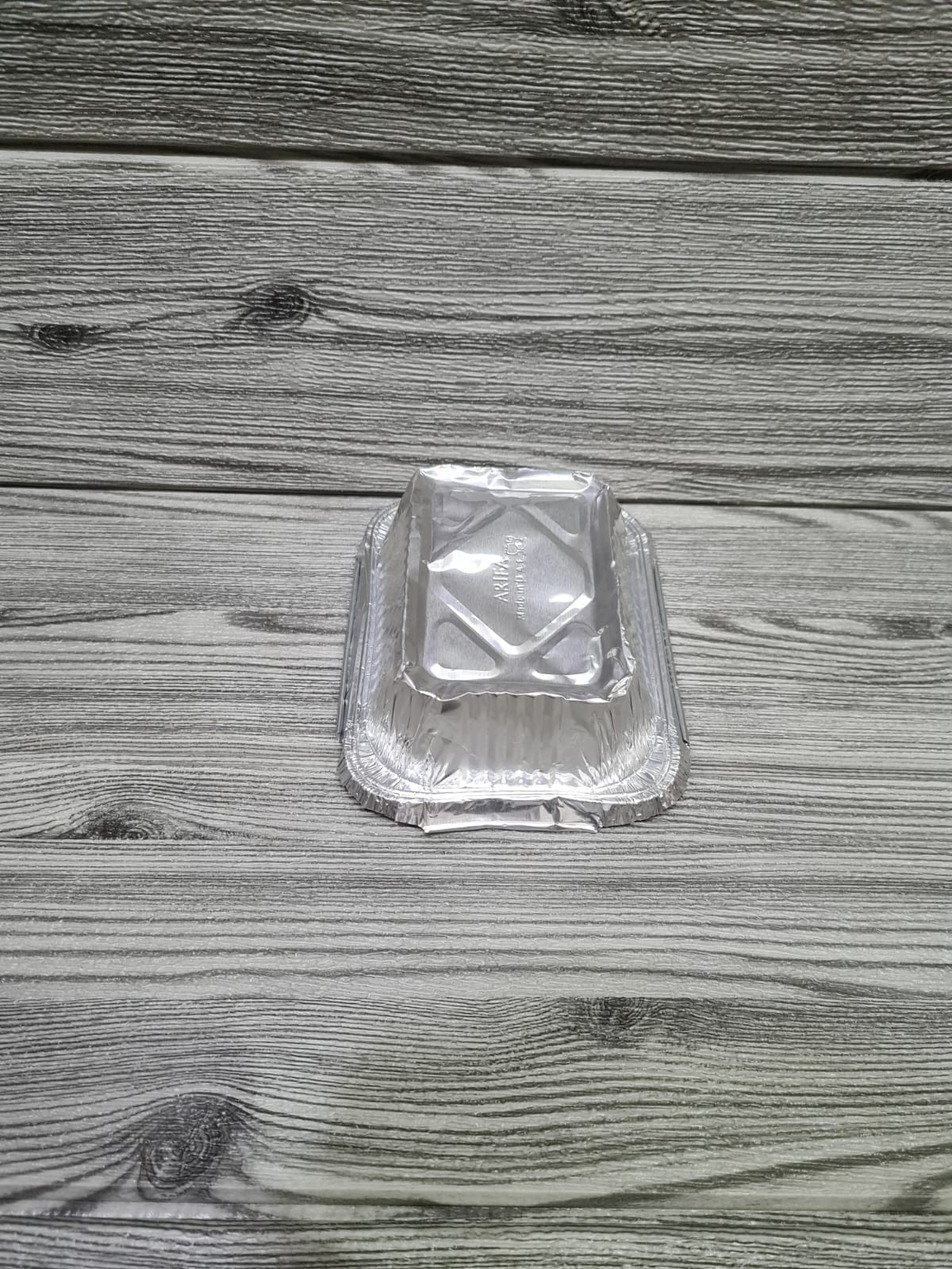Metal: (339, 466, 675, 830)
